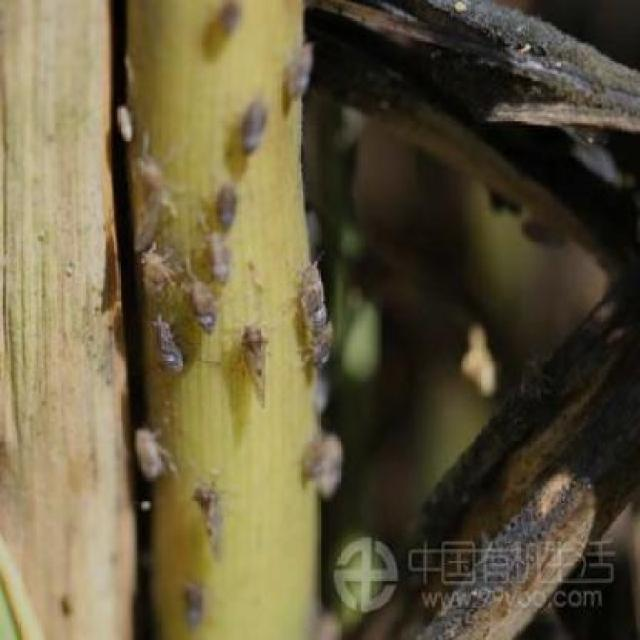brown-planthopper: (236, 322, 270, 407), (302, 432, 344, 494), (296, 262, 330, 338), (194, 481, 223, 562), (139, 245, 173, 304), (148, 314, 182, 372), (286, 35, 314, 100), (186, 282, 220, 335), (238, 94, 268, 152), (133, 428, 164, 478), (214, 180, 238, 228), (210, 237, 232, 289), (184, 578, 205, 624), (218, 1, 242, 33)
